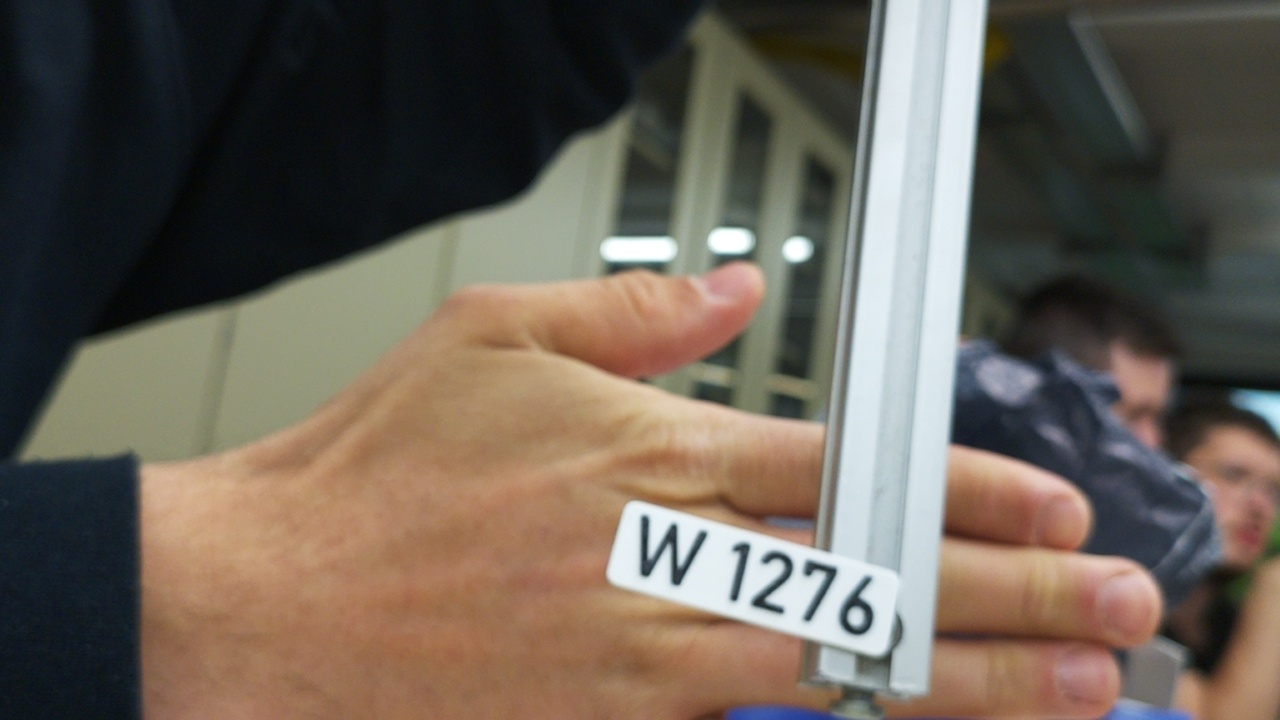license_plate: (603, 495, 902, 659)
